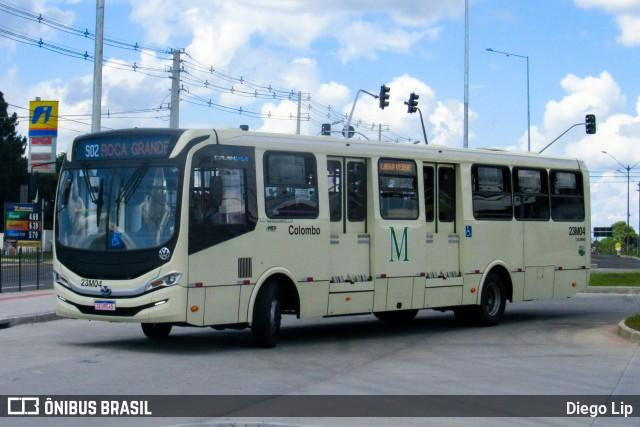ROCA GRANDE: (97, 138, 174, 160)
